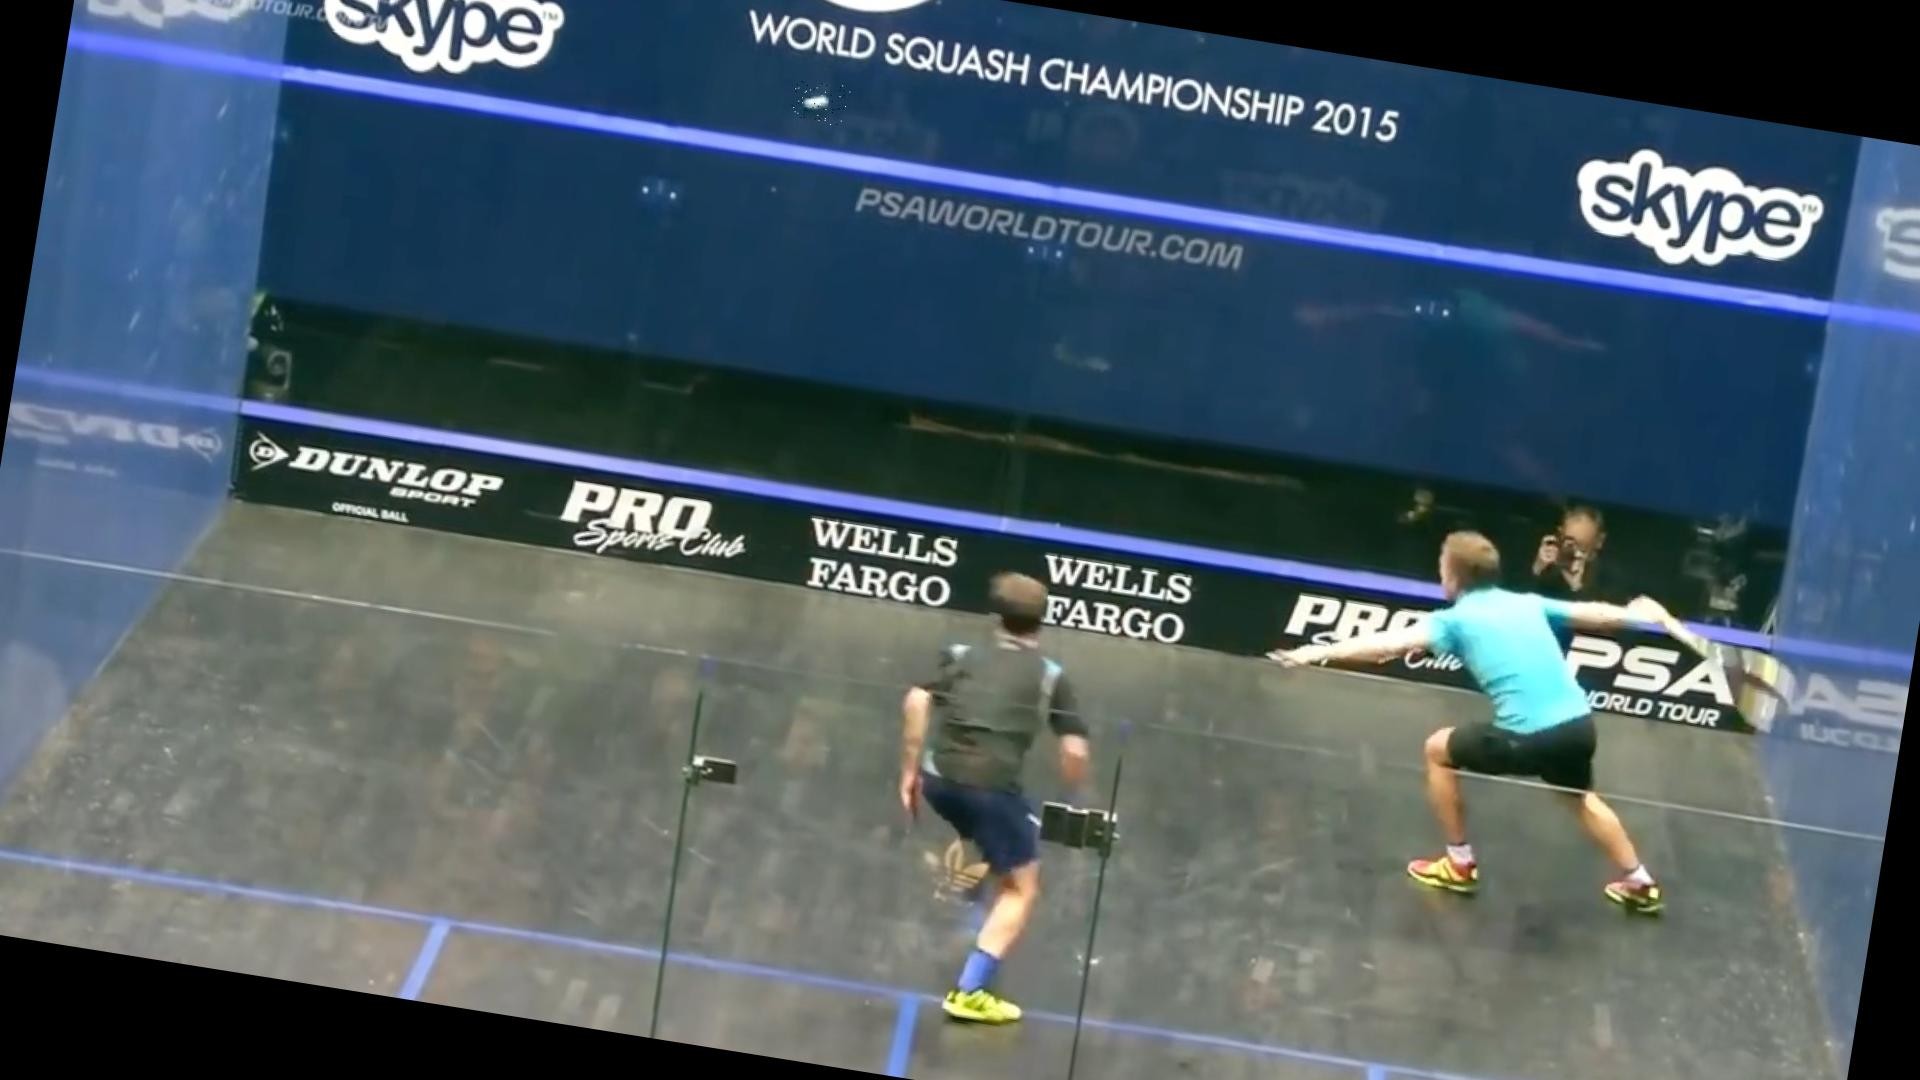Squash-Ball: (789, 76, 851, 127)
